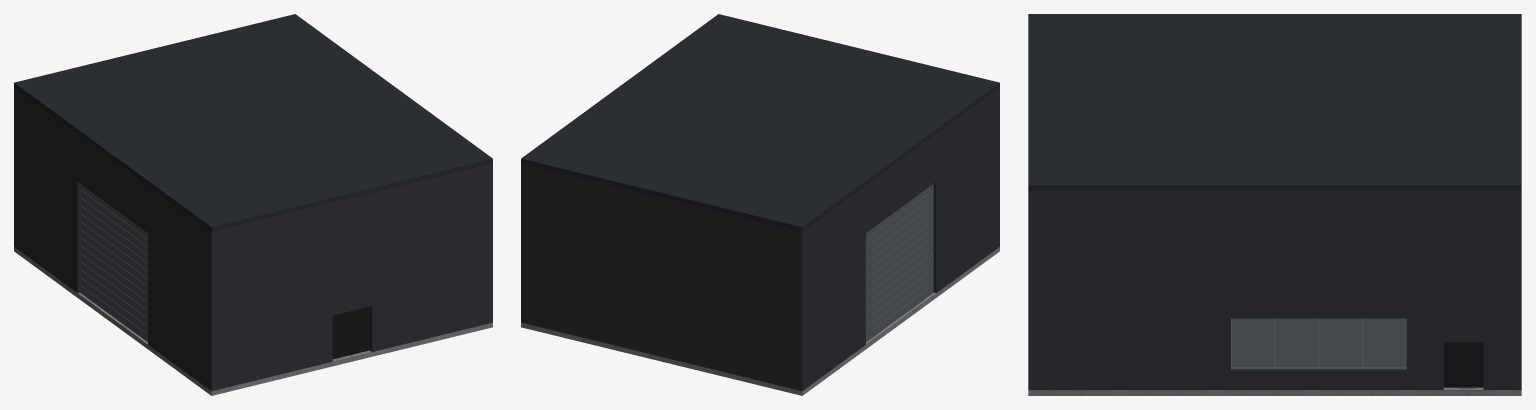
File: RF_Hangar.glb
3 renders of one model, left to right at view 1: azimuth 30°, elevation 25°; view 2: azimuth 150°, elevation 25°; view 3: azimuth 270°, elevation 25°, orthographic. The views are drawn at different scales.
Visible parts, largest first — view 1: Hangar_Ceiling, Hangar_WallS_00, Hangar_WallS_02, Hangar_WallW_02, Hangar_WallW_00, MOD_HangarDoor, Hangar_WallS_01, Hangar_WallW_01, Hangar_Floor, MOD_Cladding_S, Hangar_WallN_00; view 2: Hangar_Ceiling, Hangar_WallN_00, Hangar_WallW_00, Hangar_WallW_02, MOD_HangarDoor, Hangar_WallW_01, Hangar_Floor, Hangar_WallS_00; view 3: Hangar_Ceiling, Hangar_WallE_00, Hangar_WallE_02, MOD_Cladding_E, Hangar_WallE_Glass03, Hangar_WallE_04, Hangar_WallE_06, Hangar_WallE_05, Hangar_WallE_01, Hangar_Floor, Hangar_WallN_00, Hangar_WallS_02 (+1 smaller).
Part boxes in pixels (<box>): Hangar_Ceiling: <box>14,14,492,231</box>; Hangar_WallS_00: <box>209,202,332,390</box>; Hangar_WallS_02: <box>370,163,492,351</box>; Hangar_WallW_02: <box>16,89,80,292</box>; Hangar_WallW_00: <box>148,186,209,388</box>; MOD_HangarDoor: <box>80,184,147,341</box>; Hangar_WallS_01: <box>332,193,371,315</box>; Hangar_WallW_01: <box>77,134,147,232</box>; Hangar_Floor: <box>14,247,492,395</box>; MOD_Cladding_S: <box>332,306,369,359</box>; Hangar_WallN_00: <box>14,87,16,247</box>; Hangar_Ceiling: <box>521,14,999,231</box>; Hangar_WallN_00: <box>521,163,804,390</box>; Hangar_WallW_00: <box>933,89,997,292</box>; Hangar_WallW_02: <box>804,186,865,388</box>; MOD_HangarDoor: <box>866,184,933,341</box>; Hangar_WallW_01: <box>866,134,936,232</box>; Hangar_Floor: <box>521,247,999,395</box>; Hangar_WallS_00: <box>997,87,999,247</box>; Hangar_Ceiling: <box>1028,14,1521,191</box>; Hangar_WallE_00: <box>1034,191,1230,389</box>; Hangar_WallE_02: <box>1231,191,1406,318</box>; MOD_Cladding_E: <box>1232,318,1483,387</box>; Hangar_WallE_Glass03: <box>1231,319,1406,368</box>; Hangar_WallE_04: <box>1406,191,1443,389</box>; Hangar_WallE_06: <box>1483,191,1515,389</box>; Hangar_WallE_05: <box>1443,191,1483,342</box>; Hangar_WallE_01: <box>1231,368,1406,389</box>; Hangar_Floor: <box>1028,387,1521,395</box>; Hangar_WallN_00: <box>1516,191,1521,389</box>; Hangar_WallS_02: <box>1028,191,1033,389</box>.
Size of the model in its own units: 18.5 by 10.6 by 22.5.
74 materials, 47 textured.
